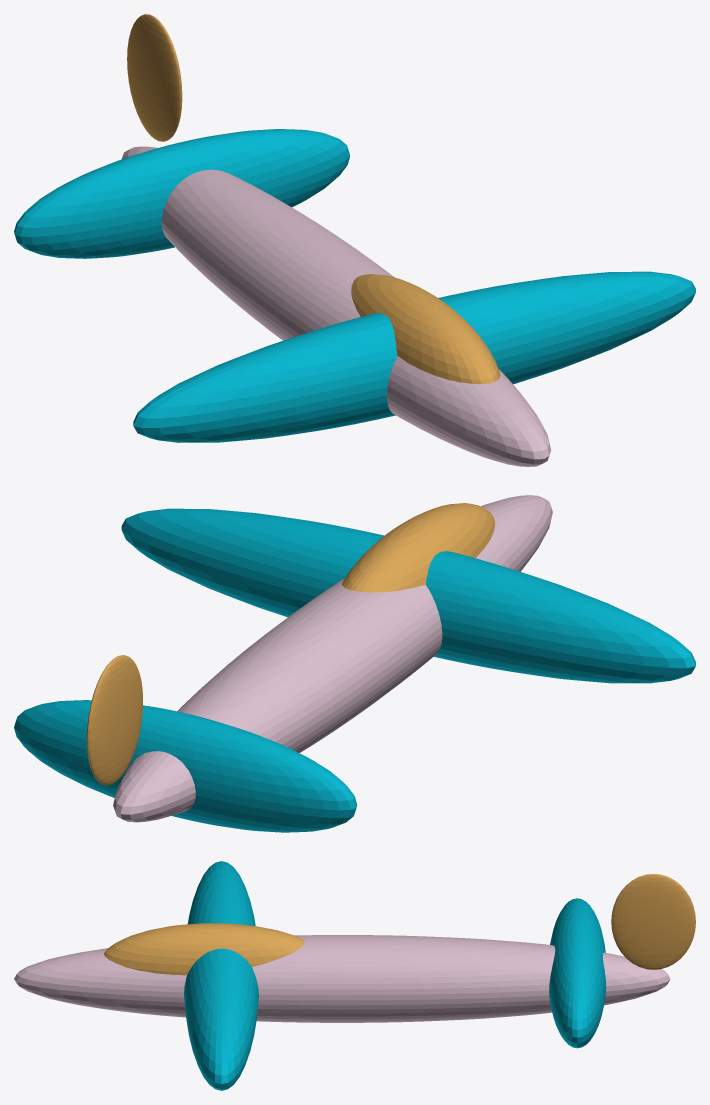
File: Copy of helicopter helicopter.glb
The picture shows the model from 3 angles, top to bottom: view 1: azimuth 30°, elevation 25°; view 2: azimuth 150°, elevation 25°; view 3: azimuth 270°, elevation 25°; orthographic projection. The views are drawn at different scales.
Parts seen in each view (by area): view 1: Mesh_Mesh_head_geo.001_lambert2SG.001; view 2: Mesh_Mesh_head_geo.001_lambert2SG.001; view 3: Mesh_Mesh_head_geo.001_lambert2SG.001.
Part boxes in pixels (x1,y1,x2,y2): Mesh_Mesh_head_geo.001_lambert2SG.001: [14, 14, 695, 466]; Mesh_Mesh_head_geo.001_lambert2SG.001: [14, 495, 695, 832]; Mesh_Mesh_head_geo.001_lambert2SG.001: [14, 861, 695, 1090].
Bounding box in the file's own units: 121 × 39 × 161.
